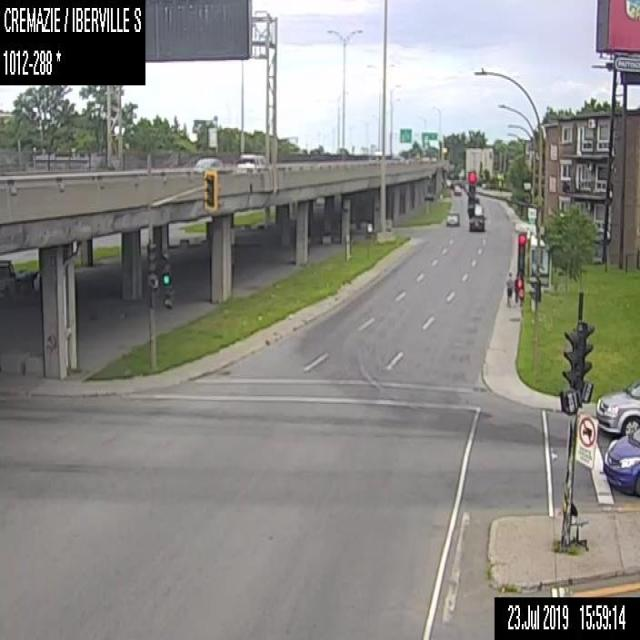pedestrian: (505, 270, 513, 306), (514, 272, 522, 306)
vehicle: (602, 426, 639, 495), (595, 379, 639, 436), (191, 156, 233, 173), (236, 152, 266, 172), (469, 203, 485, 229), (446, 211, 458, 224), (453, 185, 460, 195), (474, 195, 479, 204)
